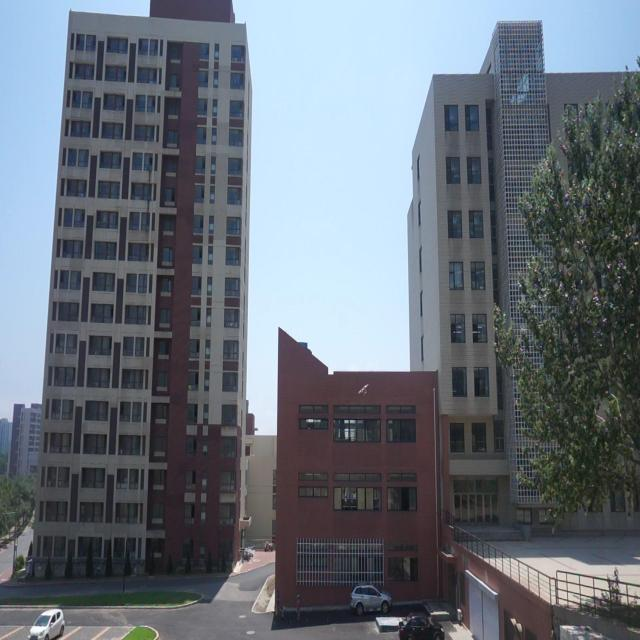drone: (356, 381, 371, 400)
